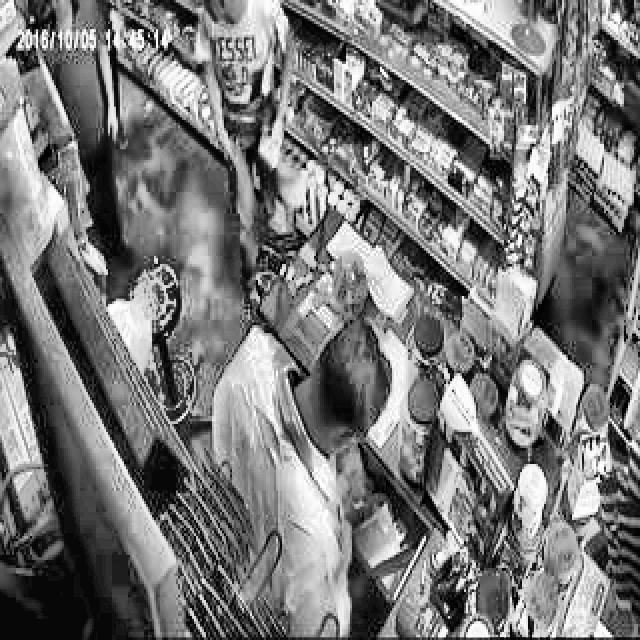robbery: (191, 2, 305, 269)
